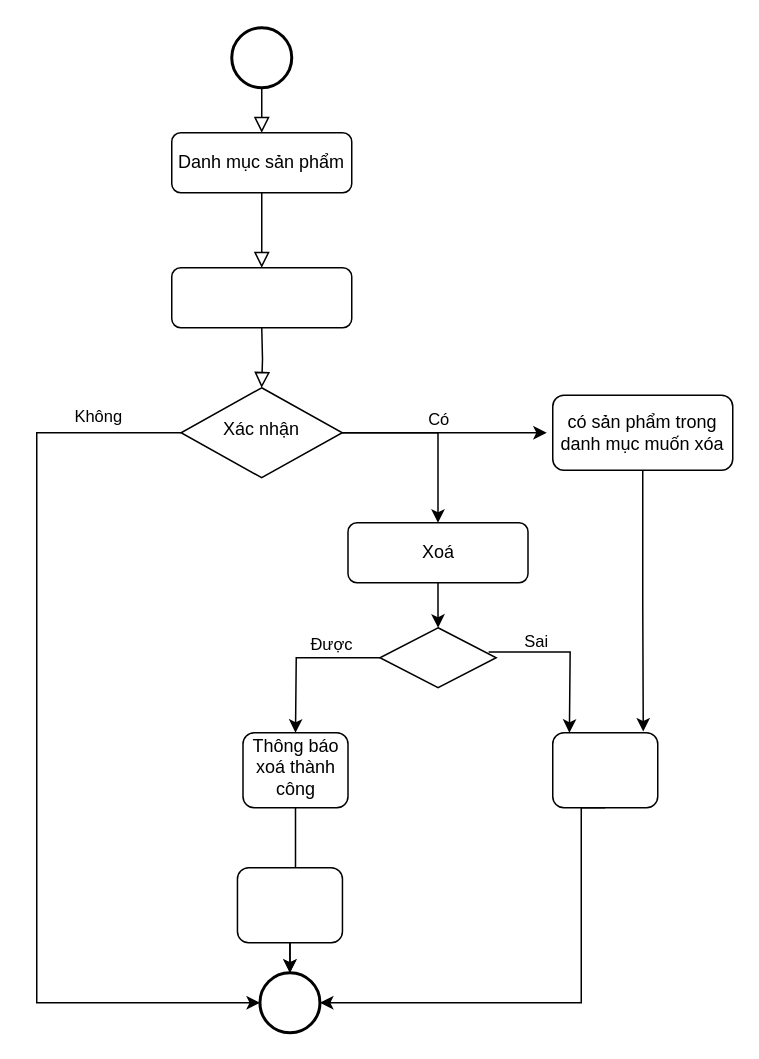
Some shapes in this 759 by 1059 pixel diagram are drawn without their labels. Each missing label, with the centre of its shape:
Chọn xoá danh mục: [261,297]
Lây dữ liệu mới: [289,904]
Thông báo xoá thất bại: [604,769]
